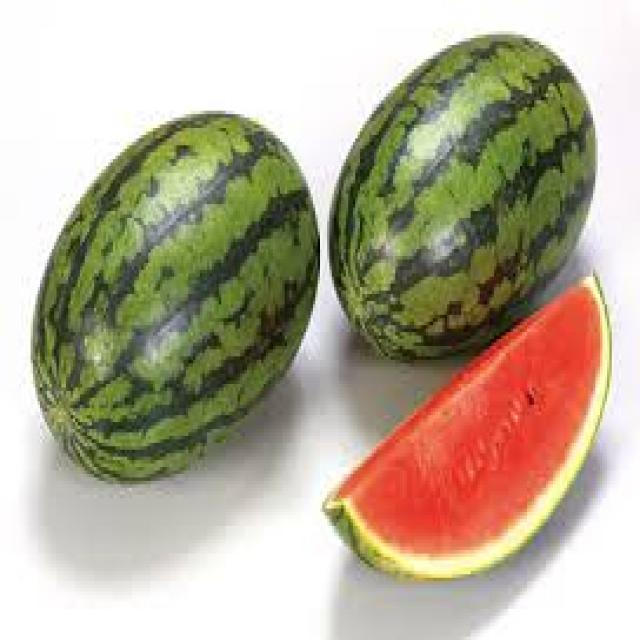organic waste: (26, 107, 322, 488), (318, 266, 612, 585), (322, 28, 596, 360)
